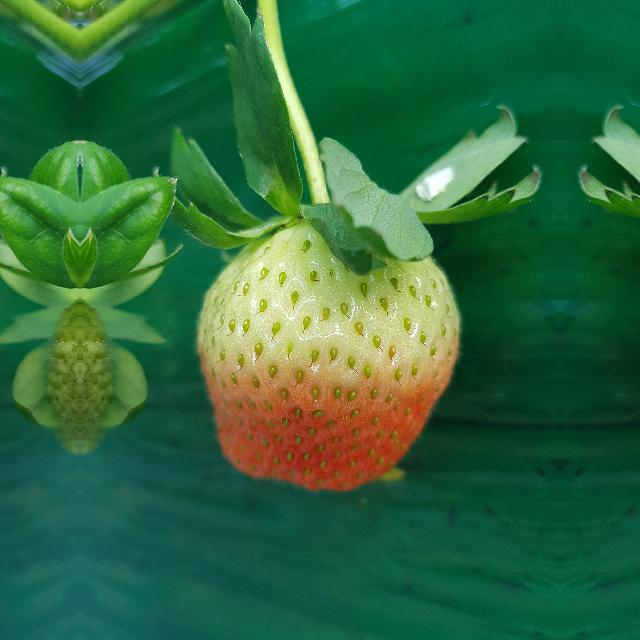Health_50: (194, 224, 462, 492)
